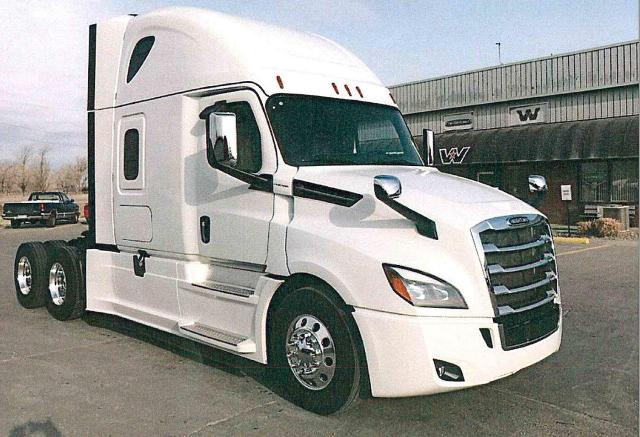truck: (7, 0, 562, 416)
